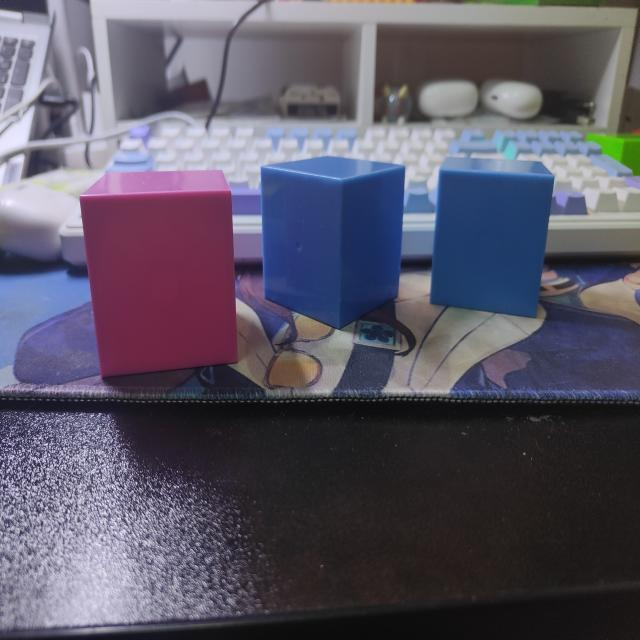blue: (260, 156, 407, 331), (429, 159, 555, 322)
pink: (78, 169, 240, 385)
